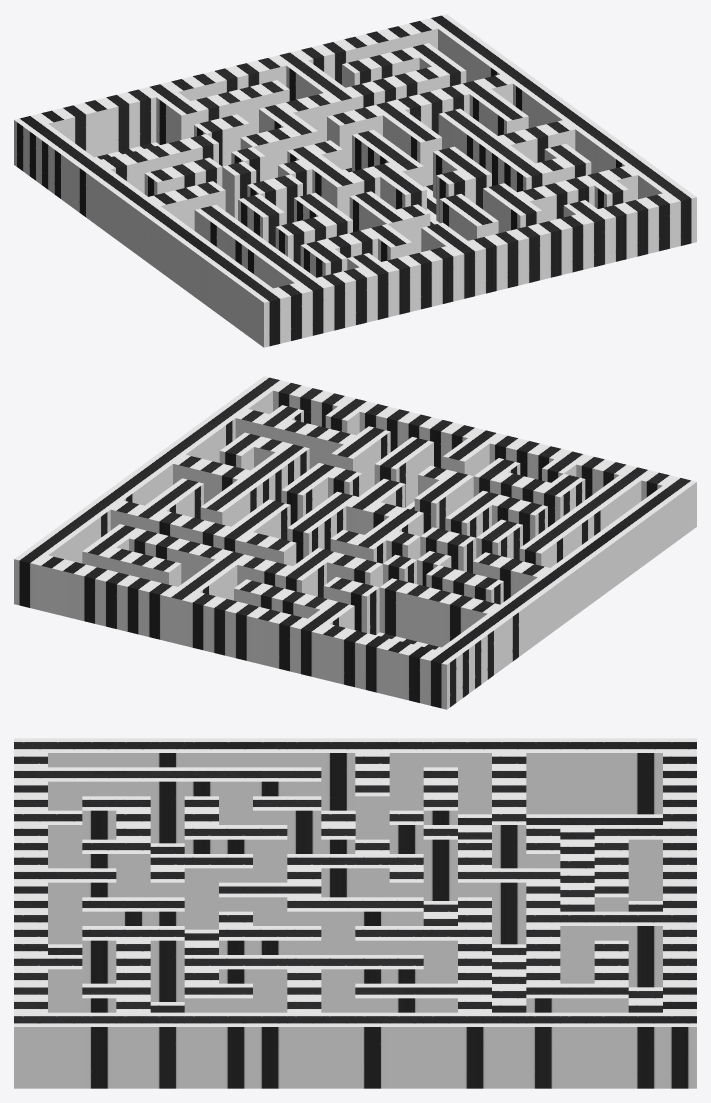
File: maze.fbx
3 views of the same model, one above another, from view 1: azimuth 30°, elevation 25°; view 2: azimuth 150°, elevation 25°; view 3: azimuth 270°, elevation 25° (orthographic). The views are drawn at different scales.
Parts seen in each view (by area): view 1: pPlane1; view 2: pPlane1; view 3: pPlane1.
Boxes of the visible parts, box(x1,y1,x2,y2) form: pPlane1: box(14, 14, 696, 347); pPlane1: box(14, 376, 696, 709); pPlane1: box(14, 738, 696, 1088).
Size of the model in its own units: 23.96 by 2.38 by 23.96.
Materials: 1 (1 with a texture image).
